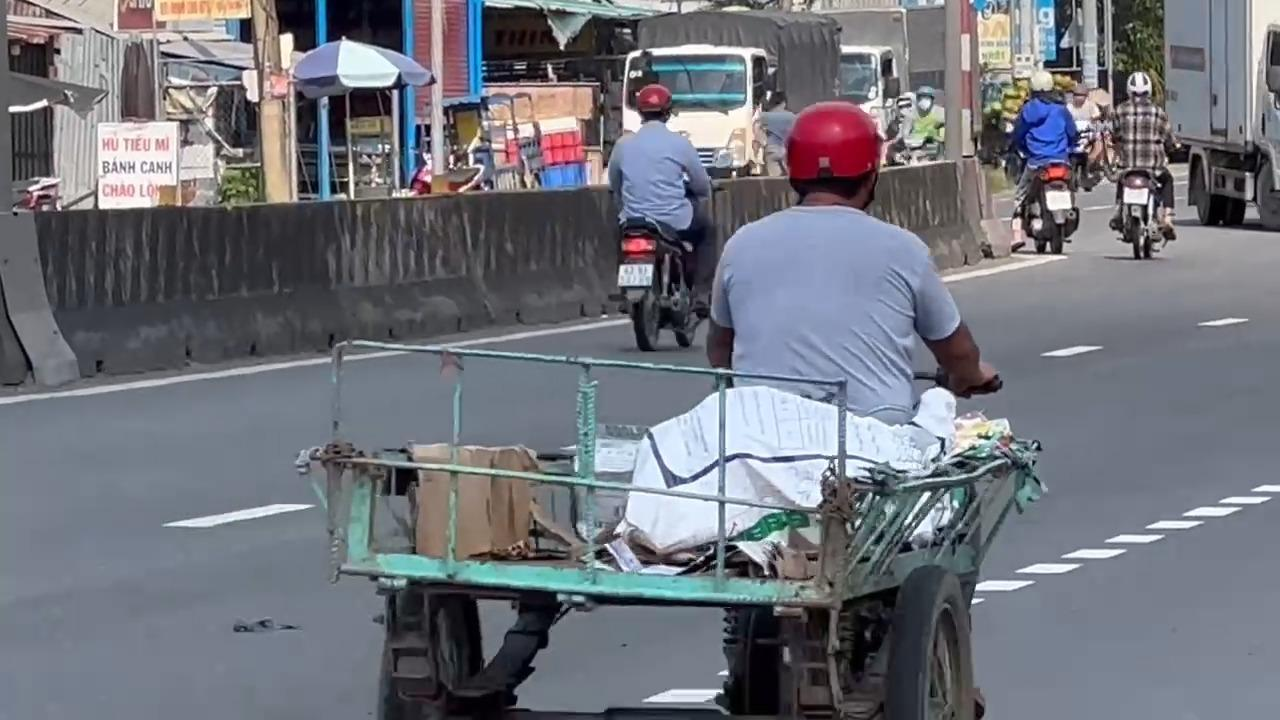bien_so: (616, 261, 654, 287)
